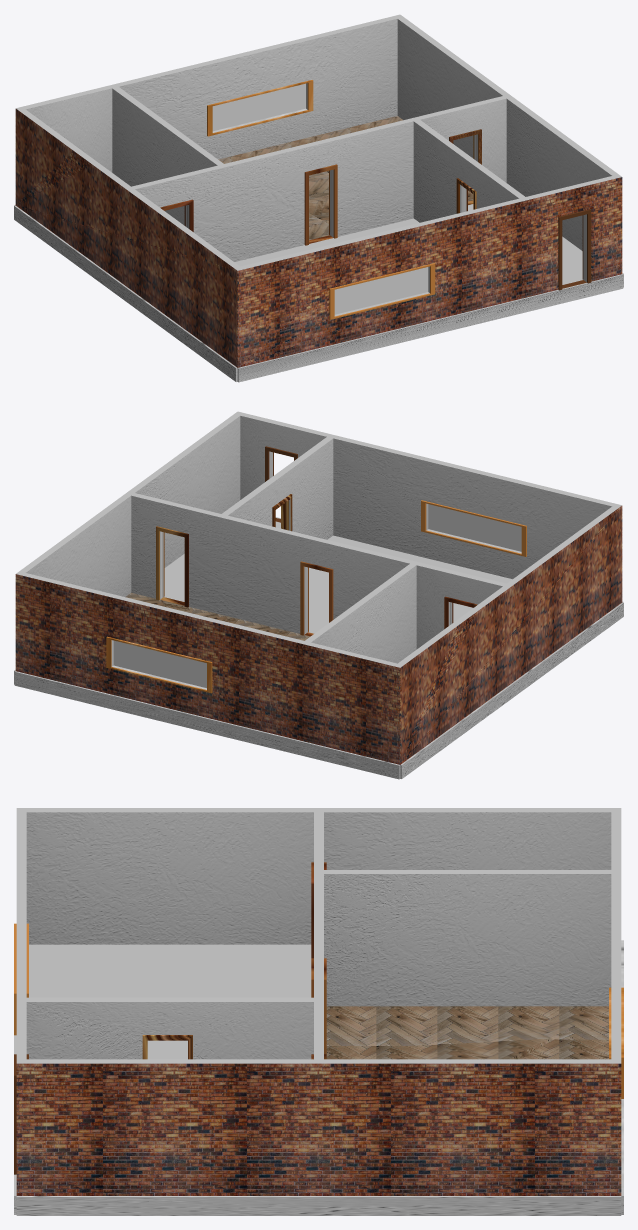
File: apartment_trying_transparent_windows_31_08_16_28.fbx
The picture shows the model from 3 angles, top to bottom: view 1: azimuth 30°, elevation 25°; view 2: azimuth 150°, elevation 25°; view 3: azimuth 270°, elevation 25°; orthographic projection. The views are drawn at different scales.
Visible parts, largest first — view 1: House; view 2: House; view 3: House.
Boxes of the visible parts, left/top/right/bottom form: House: left=14, top=14, right=623, bottom=382; House: left=14, top=411, right=623, bottom=779; House: left=14, top=808, right=623, bottom=1215.
Size of the model in its own units: 1210 by 331 by 1210.
